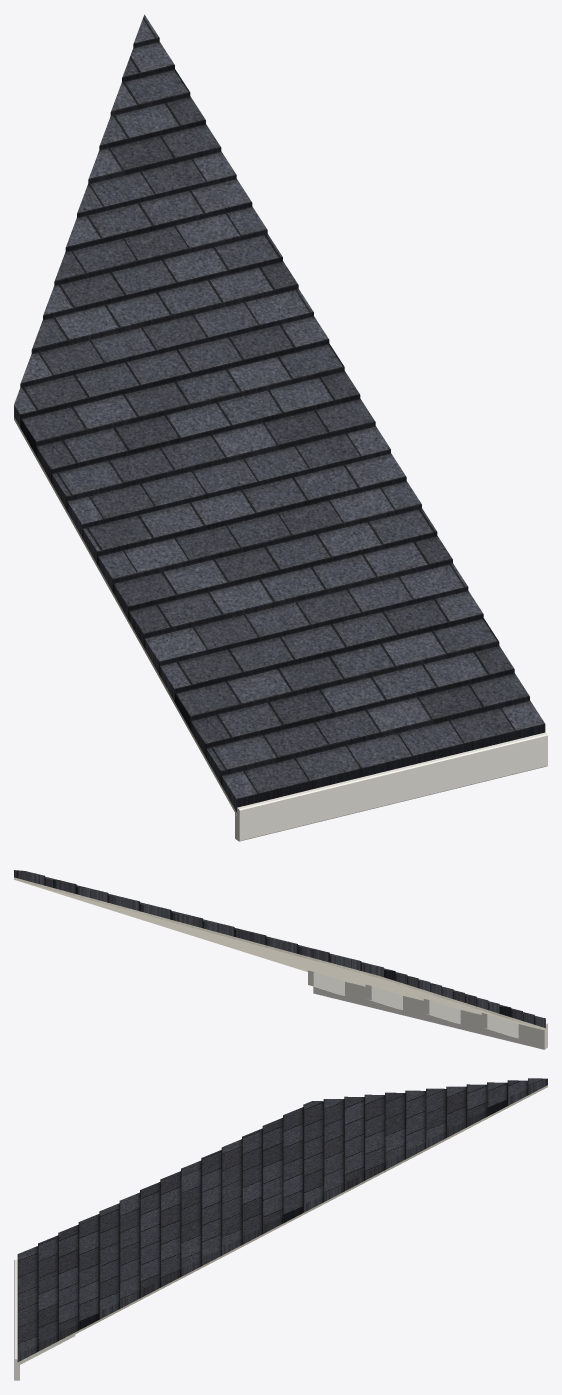
Rendered from roof_main_4_l_porch.glb.
3 renders of one model, top to bottom at view 1: azimuth 30°, elevation 25°; view 2: azimuth 150°, elevation 25°; view 3: azimuth 270°, elevation 25°, orthographic. The views are drawn at different scales.
Parts seen in each view (by area): view 1: roof_main_4_l_porch_shingles, roof_main_4_l_porch_trim, roof_main_4_l_porch_plaster; view 2: roof_main_4_l_porch_shingles, roof_main_4_l_porch_plaster, roof_main_4_l_porch_trim; view 3: roof_main_4_l_porch_shingles, roof_main_4_l_porch_plaster, roof_main_4_l_porch_trim.
Boxes of the visible parts, box(x1,y1,x2,y2) form: roof_main_4_l_porch_shingles: box(14, 14, 545, 812); roof_main_4_l_porch_trim: box(235, 732, 547, 841); roof_main_4_l_porch_plaster: box(14, 417, 236, 815); roof_main_4_l_porch_shingles: box(14, 870, 545, 1028); roof_main_4_l_porch_plaster: box(14, 877, 545, 1030); roof_main_4_l_porch_trim: box(308, 970, 547, 1049); roof_main_4_l_porch_shingles: box(17, 1078, 547, 1361); roof_main_4_l_porch_plaster: box(17, 1085, 547, 1364); roof_main_4_l_porch_trim: box(14, 1259, 75, 1380).
Size of the model in its own units: 2 by 2.83 by 4.53.
3 materials, 2 textured.
